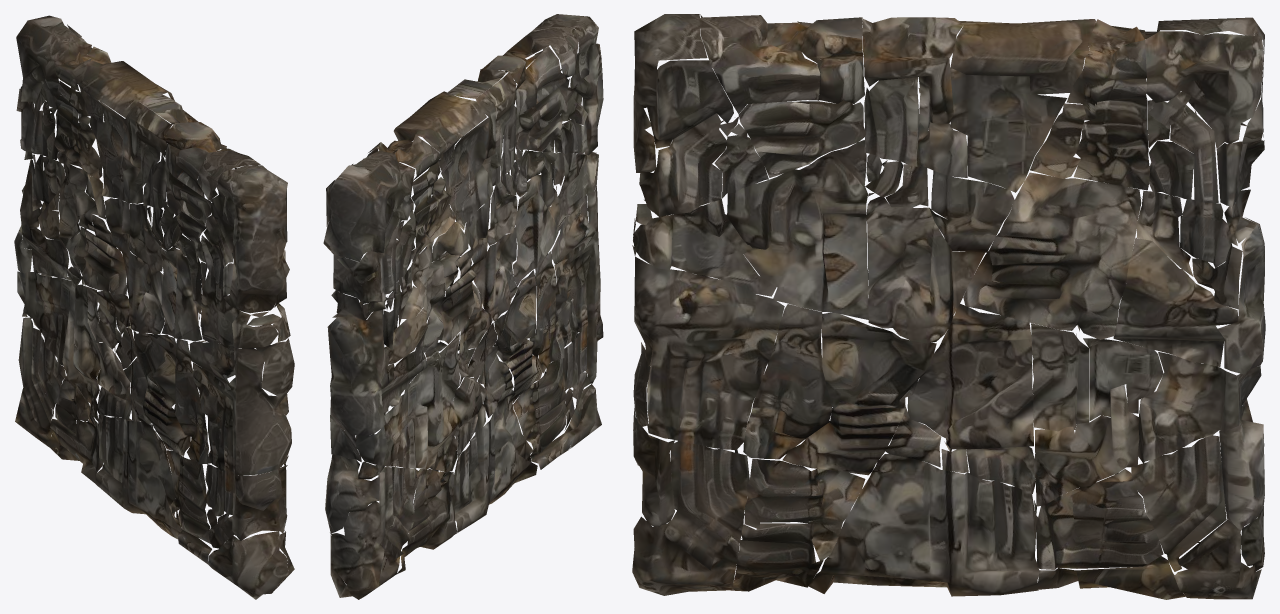
The model's file is arch_floor_stone_LOD2.glb.
3 renders of one model, left to right at view 1: azimuth 30°, elevation 25°; view 2: azimuth 150°, elevation 25°; view 3: azimuth 270°, elevation 25°, orthographic. The views are drawn at different scales.
Parts seen in each view (by area): view 1: tripo_node_d47b0ee3-ac23-4a6f-a88d-3b07333e5048; view 2: tripo_node_d47b0ee3-ac23-4a6f-a88d-3b07333e5048; view 3: tripo_node_d47b0ee3-ac23-4a6f-a88d-3b07333e5048.
Part boxes in pixels (x1=…): tripo_node_d47b0ee3-ac23-4a6f-a88d-3b07333e5048: x1=14, y1=15, x2=294, y2=599; tripo_node_d47b0ee3-ac23-4a6f-a88d-3b07333e5048: x1=323, y1=14, x2=603, y2=599; tripo_node_d47b0ee3-ac23-4a6f-a88d-3b07333e5048: x1=632, y1=14, x2=1265, y2=599.
Size of the model in its own units: 0.1764 by 0.9942 by 1.
1 material, 1 textured.
